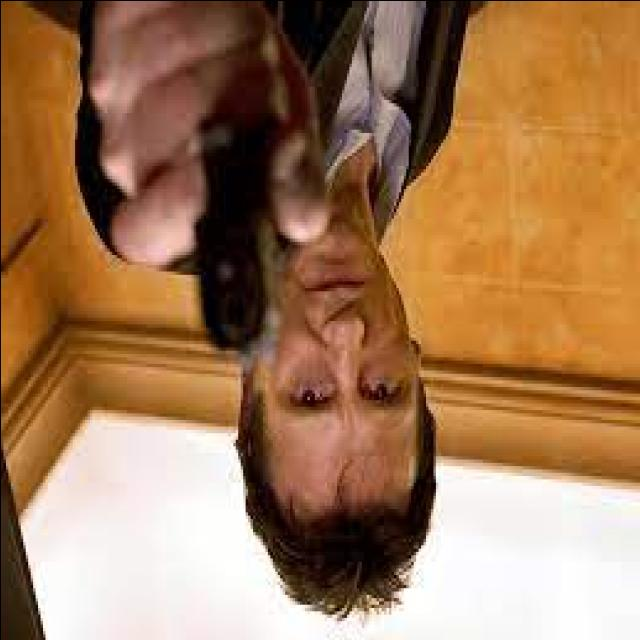weapons: (170, 84, 314, 388)
